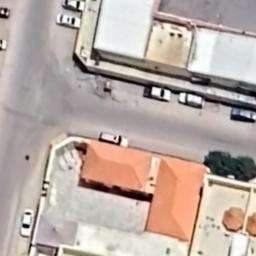SUV: (96, 128, 130, 149)
sedan: (142, 83, 174, 103), (227, 104, 256, 124), (177, 90, 205, 110), (54, 12, 84, 30), (19, 209, 35, 240), (58, 0, 88, 12), (0, 5, 11, 18), (0, 38, 9, 52)
